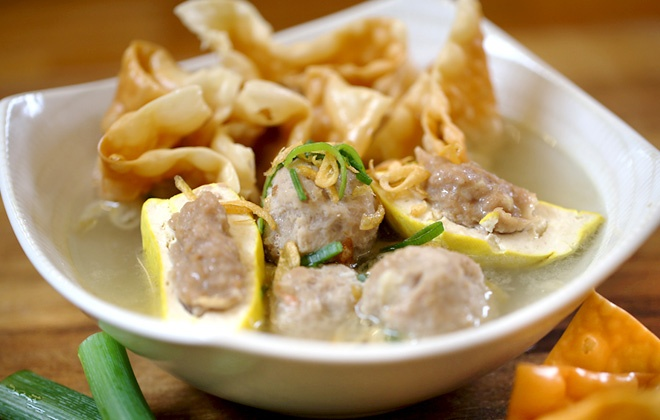bakso_malang: (96, 1, 606, 338)
